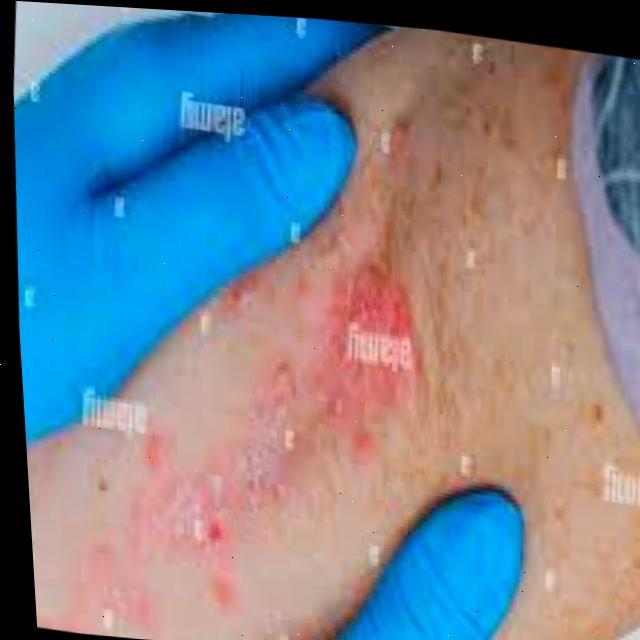Eczema: (109, 205, 427, 640)
